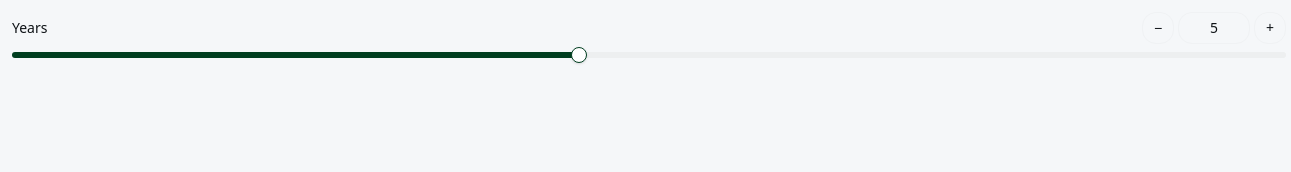
Test: SliderField touch-friendly enhancements › stepper buttons › decrements value when - button is clicked
This screenshot has width=1291, height=172.
Click the button named "decrease years". click: (1158,28)
box: [1142,12,1174,44]
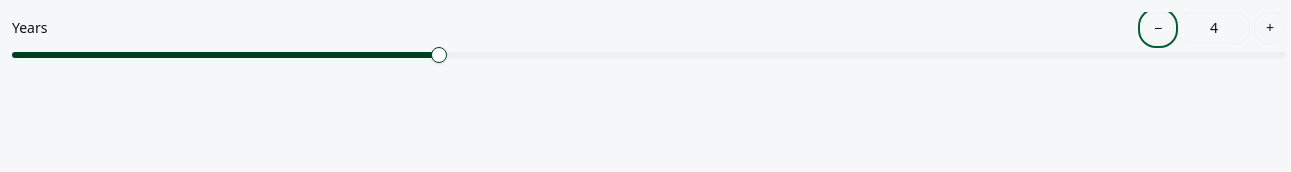
Check: the button named "edit years value" reads "4", box [1178,12,1250,44]
